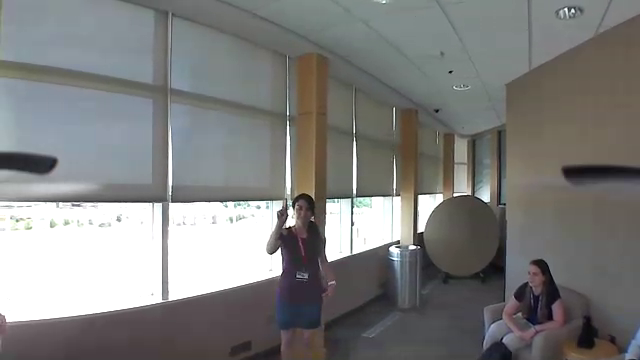up: (274, 198, 289, 226)
